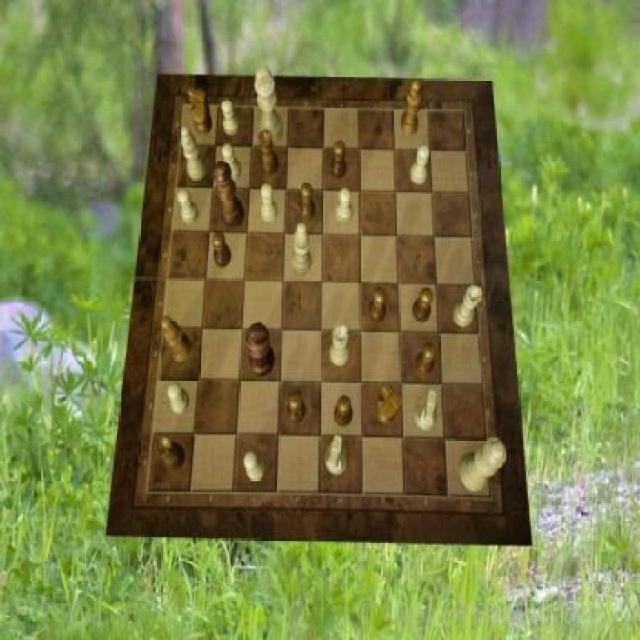bishop: (162, 315, 192, 361), (400, 79, 421, 136)
black-bishop: (247, 322, 276, 378)
black-king: (188, 86, 212, 136), (376, 381, 402, 424)
black-knight: (415, 343, 438, 377), (212, 231, 232, 268), (412, 288, 433, 322), (300, 183, 317, 222), (286, 392, 306, 425), (368, 286, 385, 322), (334, 397, 353, 429), (330, 142, 346, 180)
black-pawn: (212, 162, 245, 230)
black-queen: (156, 436, 187, 472), (258, 129, 280, 177)
black-rook: (182, 125, 208, 179), (292, 221, 312, 274)
white-bishop: (255, 64, 283, 144)
white-king: (414, 389, 437, 432), (325, 436, 347, 476)
white-knight: (223, 143, 243, 181), (178, 189, 200, 223), (411, 146, 430, 185), (245, 451, 267, 482), (168, 381, 188, 414), (222, 99, 239, 136), (262, 185, 278, 222), (337, 188, 354, 222)
white-pawn: (460, 437, 508, 491)
white-queen: (454, 285, 483, 327), (331, 325, 352, 366)
